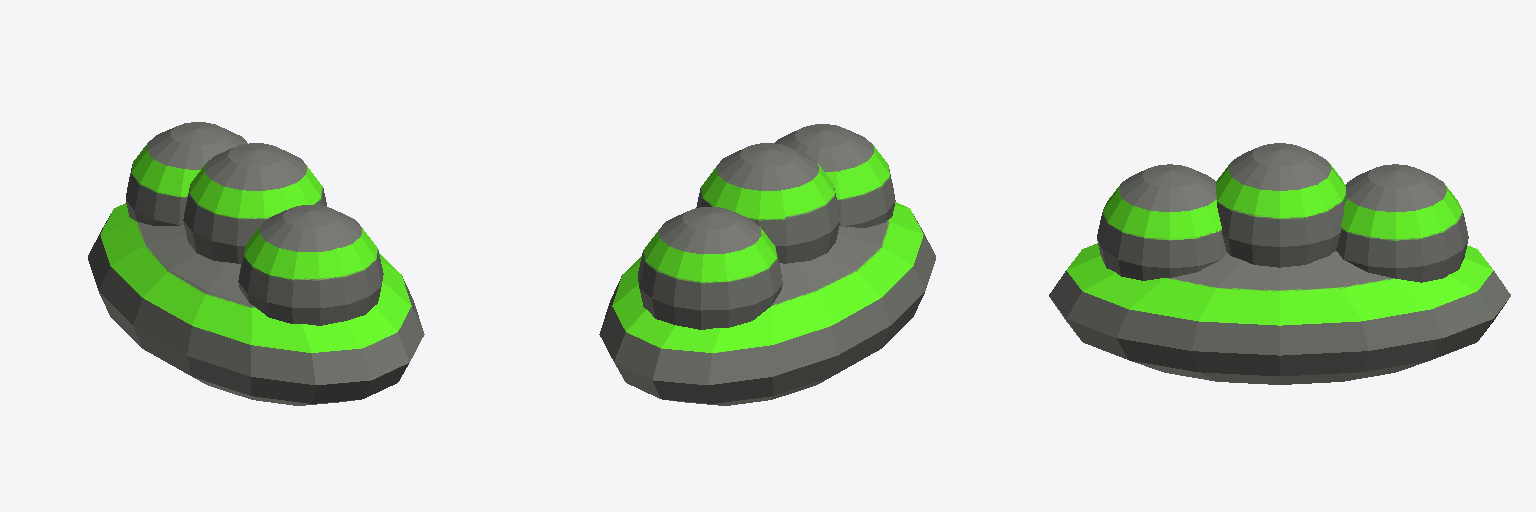
3 renders of one model, left to right at view 1: azimuth 30°, elevation 25°; view 2: azimuth 150°, elevation 25°; view 3: azimuth 270°, elevation 25°, orthographic.
Visible parts, largest first — view 1: BadUFO; view 2: BadUFO; view 3: BadUFO.
Boxes of the visible parts, box(x1,y1,x2,y2) form: BadUFO: box(88, 122, 424, 405); BadUFO: box(599, 124, 935, 405); BadUFO: box(1049, 143, 1510, 384).
Bounding box in the file's own units: 3.86 × 3.2 × 6.31.
Materials: 1 (1 with a texture image).